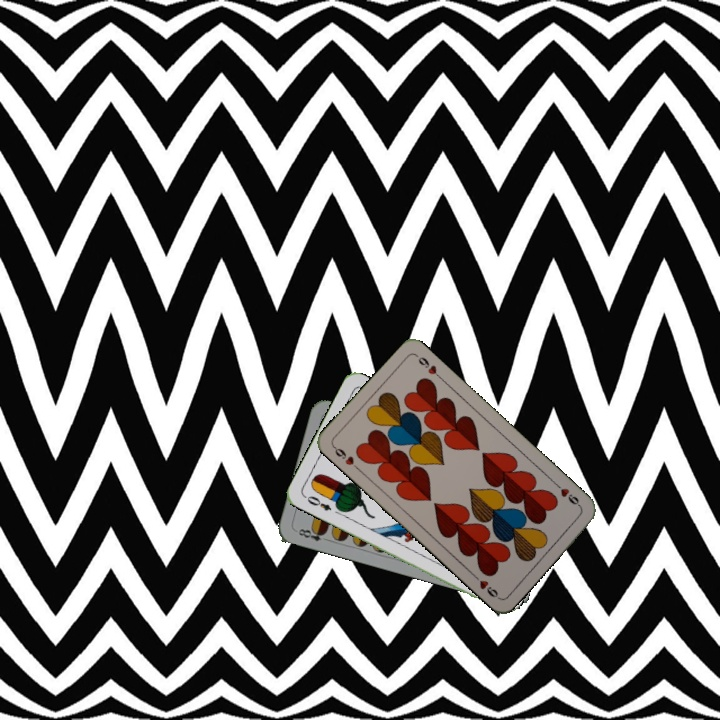E8: (294, 524, 332, 544)
EO: (300, 492, 334, 513)
H9: (329, 442, 362, 473), (551, 479, 584, 510)
